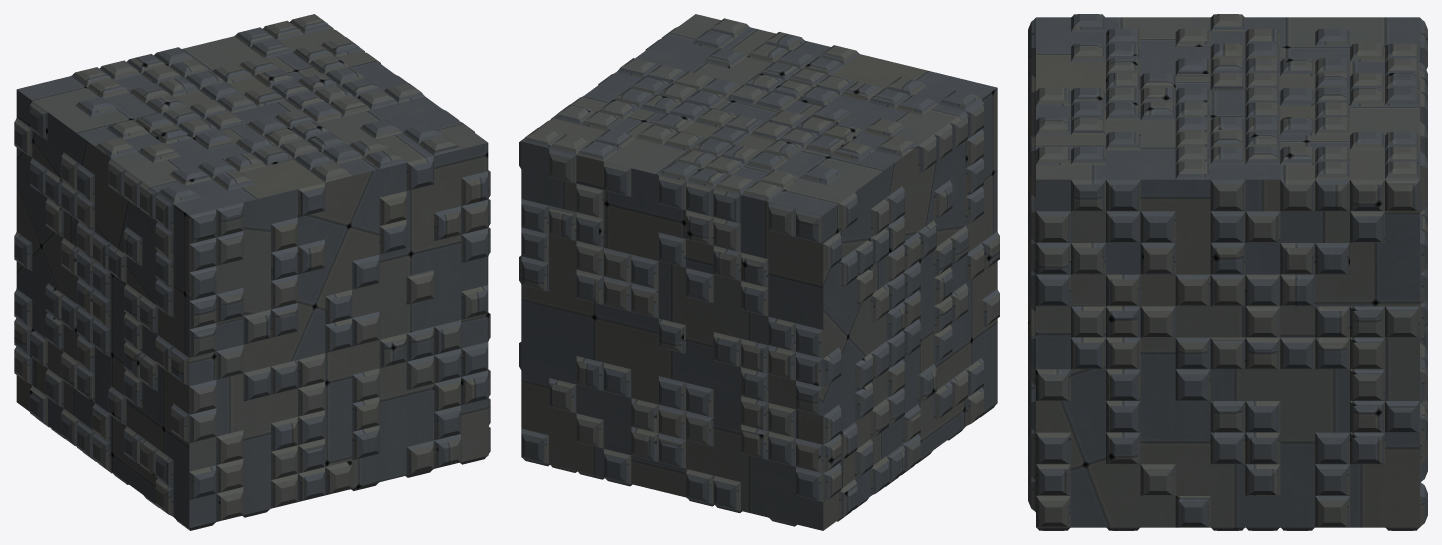
The picture shows the model from 3 angles, left to right: view 1: azimuth 30°, elevation 25°; view 2: azimuth 150°, elevation 25°; view 3: azimuth 270°, elevation 25°; orthographic projection. The views are drawn at different scales.
Visible parts, largest first — view 1: TexturedCube; view 2: TexturedCube; view 3: TexturedCube.
Boxes of the visible parts, x1=… form: TexturedCube: x1=14, y1=14, x2=490, y2=530; TexturedCube: x1=519, y1=14, x2=999, y2=530; TexturedCube: x1=1028, y1=14, x2=1427, y2=530.
Size of the model in its own units: 2.08 by 2.08 by 2.08.
1 material, 1 textured.
